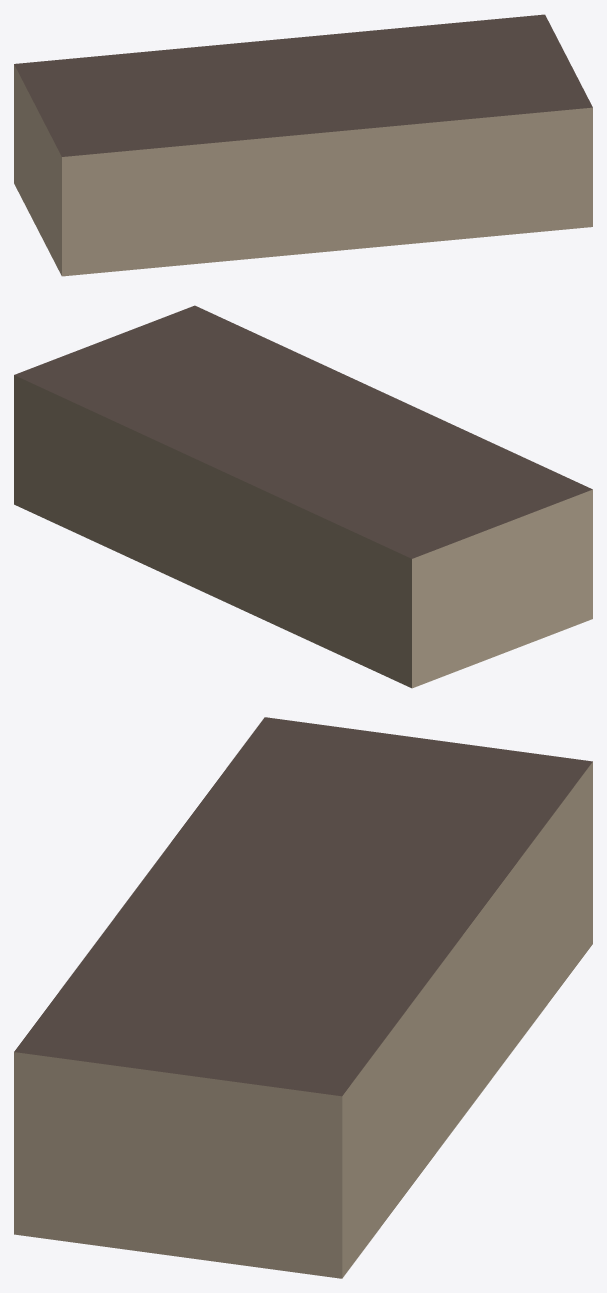
The picture shows the model from 3 angles, top to bottom: view 1: azimuth 30°, elevation 25°; view 2: azimuth 150°, elevation 25°; view 3: azimuth 270°, elevation 25°; orthographic projection. The views are drawn at different scales.
Parts seen in each view (by area): view 1: HP-w1286965535; view 2: HP-w1286965535; view 3: HP-w1286965535.
Part boxes in pixels (left/top/right/bottom): HP-w1286965535: left=14, top=14, right=592, bottom=276; HP-w1286965535: left=14, top=305, right=592, bottom=688; HP-w1286965535: left=14, top=717, right=592, bottom=1278.
Size of the model in its own units: 40.11 by 9 by 25.88.
